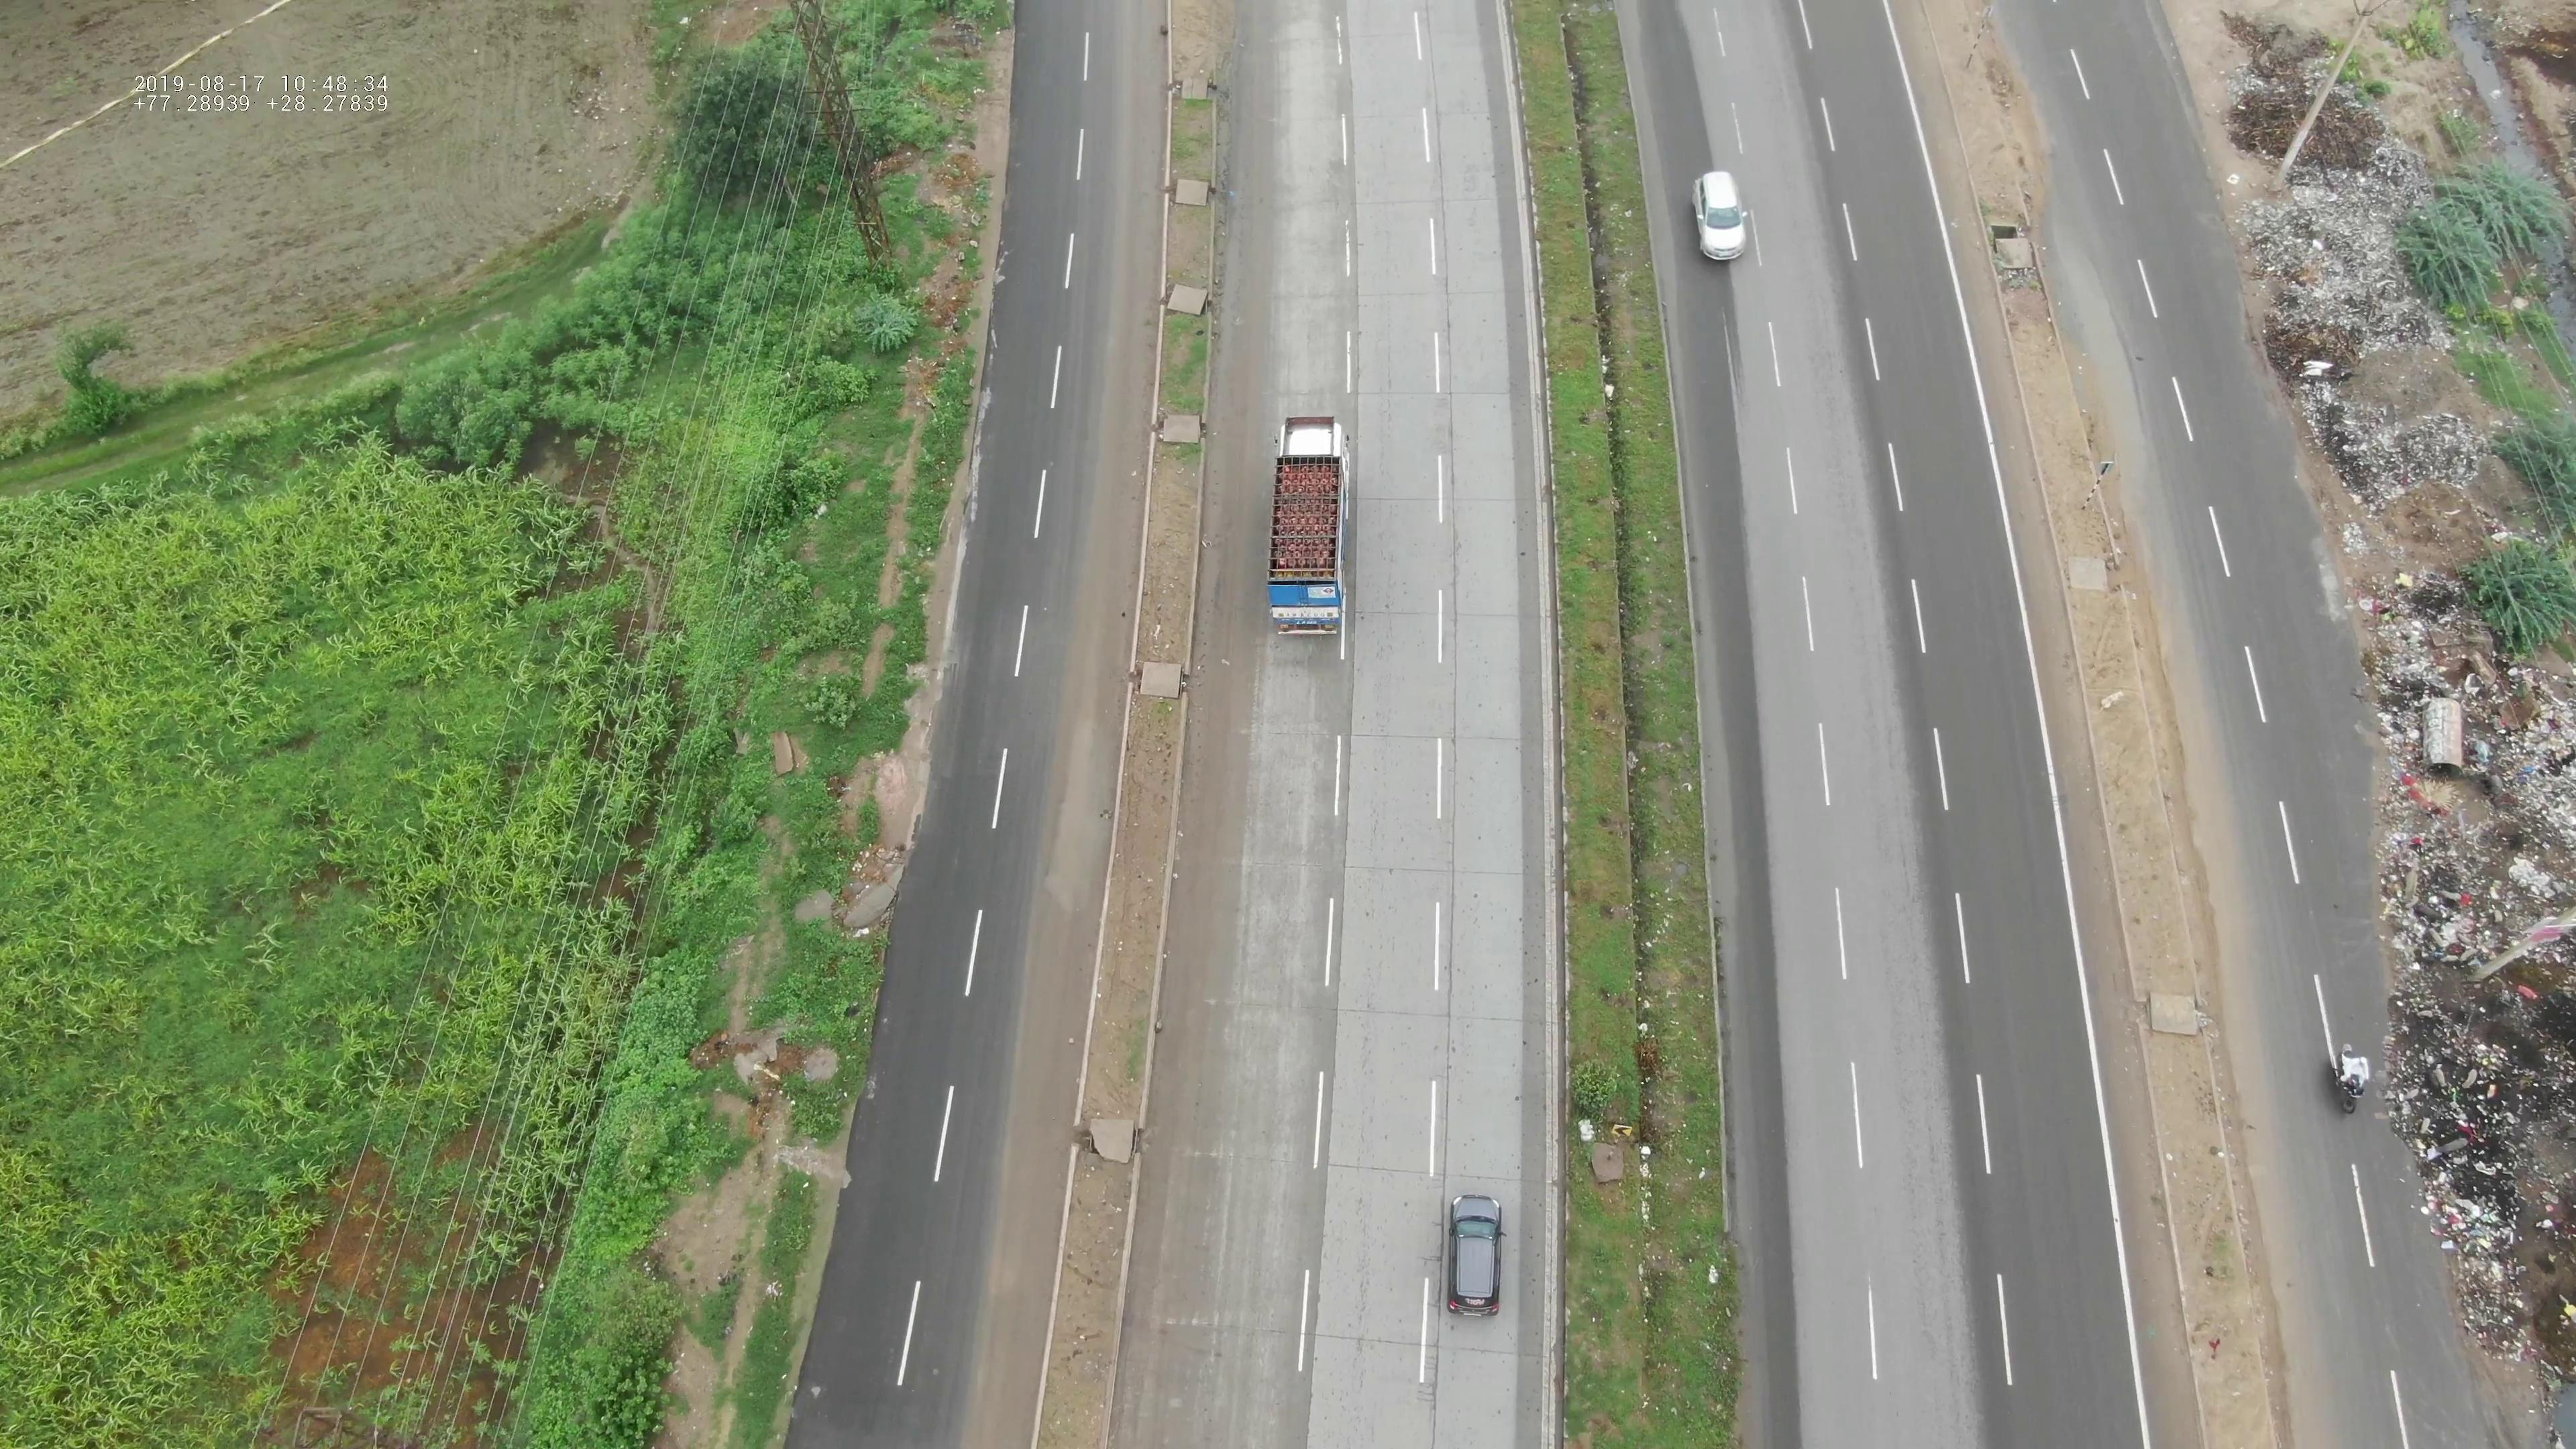Road_side_garbage: (2380, 577, 2576, 1348), (2259, 179, 2443, 373), (2298, 396, 2484, 502)
